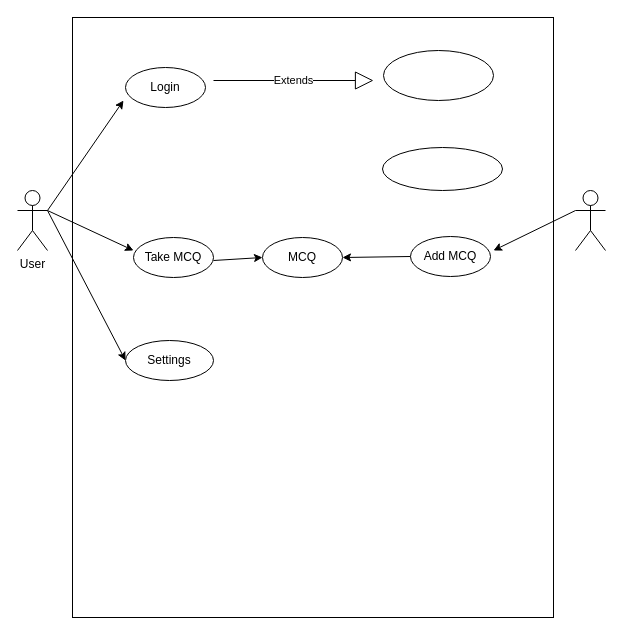
This 625x635 diagram has some shape labels left out. The shapes that lost their labels are listed below. From the top down, each one's centre as x and y in pixels, then its label:
At pixel 438 75: "Credentials".
At pixel 442 168: "Login Error".
At pixel 590 220: "Admin".
